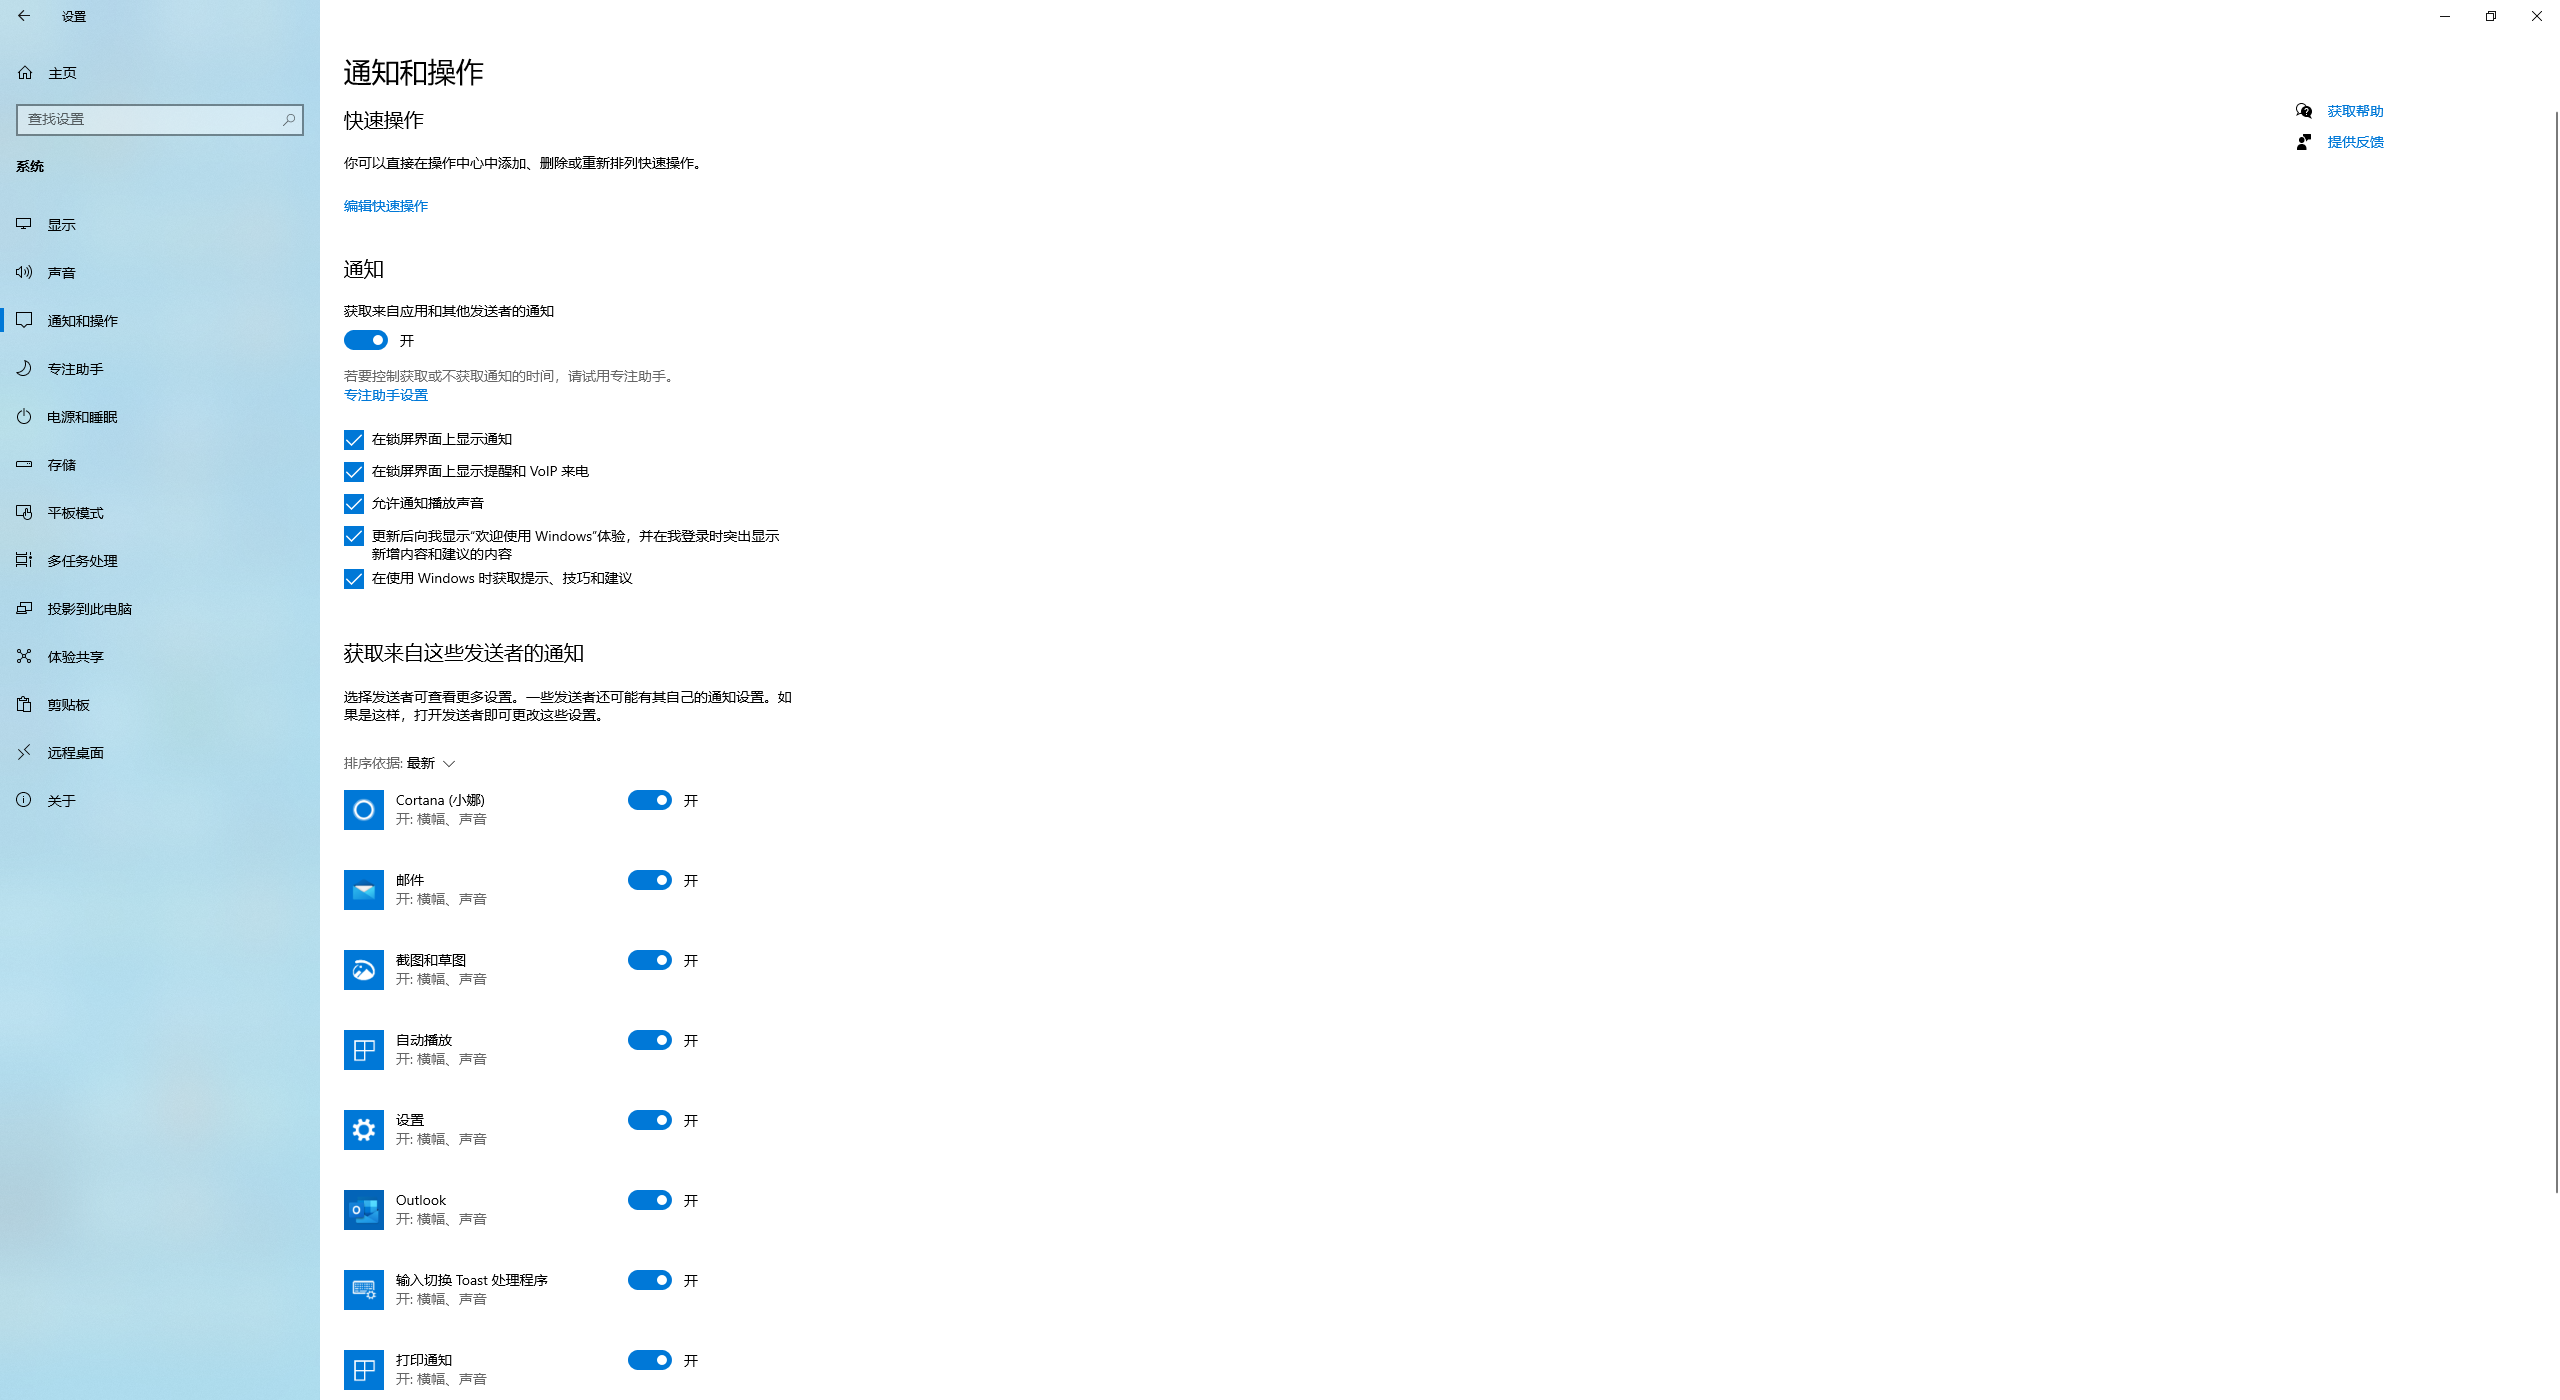character: (340, 688, 803, 728), (371, 528, 788, 562), (347, 148, 707, 178), (336, 638, 590, 666), (396, 1271, 557, 1310), (343, 366, 669, 384), (340, 297, 562, 322), (371, 571, 645, 588), (345, 53, 488, 86), (390, 1110, 498, 1148), (393, 1352, 502, 1390), (396, 790, 491, 833), (391, 950, 495, 988), (396, 871, 498, 909), (372, 462, 591, 479), (395, 1031, 493, 1069), (395, 1191, 490, 1229), (371, 429, 517, 447), (340, 105, 433, 131), (340, 748, 434, 772), (47, 598, 134, 621), (340, 197, 434, 216), (47, 310, 128, 331), (47, 550, 119, 572), (41, 409, 126, 428), (372, 495, 486, 509), (340, 390, 434, 405), (47, 503, 109, 524), (48, 743, 110, 764), (336, 257, 388, 279), (48, 359, 109, 378), (47, 648, 109, 666), (28, 112, 88, 129), (2324, 133, 2384, 148), (2324, 102, 2382, 117), (45, 697, 102, 712), (14, 155, 50, 176), (48, 66, 81, 84), (45, 459, 84, 472), (45, 795, 79, 810), (679, 952, 707, 971), (48, 264, 79, 279), (45, 219, 79, 233), (679, 1193, 703, 1210), (60, 10, 90, 24), (681, 791, 703, 809), (677, 1272, 698, 1290), (683, 1033, 702, 1050), (683, 867, 695, 890), (684, 1112, 702, 1128), (396, 333, 417, 345), (683, 1352, 698, 1367)
icon: (341, 1190, 386, 1231), (341, 1029, 384, 1071), (341, 869, 384, 910), (341, 1350, 384, 1391), (341, 1109, 384, 1150), (341, 948, 383, 990), (343, 1269, 384, 1310), (343, 791, 384, 829), (343, 328, 390, 352), (628, 948, 672, 971), (628, 1348, 672, 1371), (628, 869, 672, 890), (628, 1029, 672, 1050), (628, 1269, 672, 1290), (628, 1190, 672, 1210), (628, 1109, 672, 1129), (628, 790, 671, 810), (341, 428, 364, 452), (343, 524, 364, 547), (343, 567, 364, 590), (343, 460, 364, 483), (9, 455, 38, 471), (343, 493, 364, 514), (14, 741, 33, 764), (14, 310, 33, 329), (2295, 133, 2313, 150), (16, 407, 33, 424), (2527, 7, 2544, 24), (2295, 102, 2312, 119), (16, 503, 33, 521), (16, 359, 31, 378), (16, 695, 31, 712), (16, 550, 31, 567), (16, 790, 31, 807), (281, 110, 297, 126), (17, 64, 33, 79), (16, 264, 33, 278), (16, 216, 31, 229), (2482, 9, 2498, 22), (16, 648, 31, 662), (441, 755, 457, 769), (16, 602, 33, 614), (16, 9, 29, 22), (2438, 9, 2451, 22)
